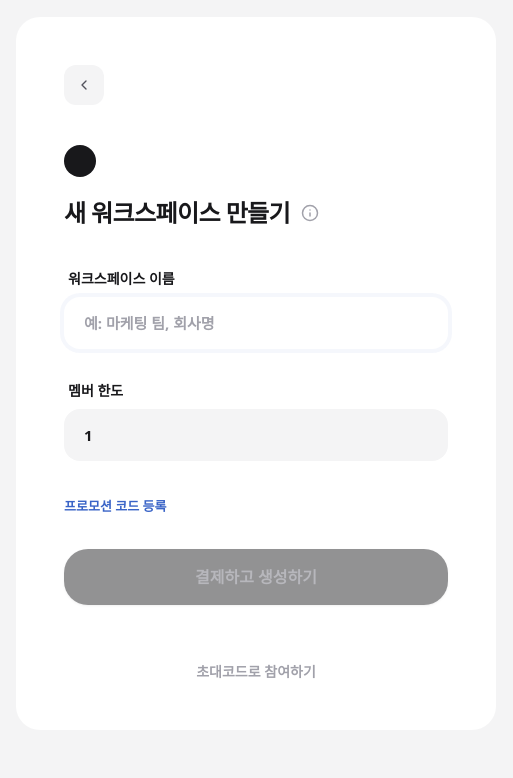
Test: NewWorkspacePage › renders validation errors from the form hook
Type "Growth Team" into the field with placeholder "예: 마케팅 팀, 회사명".
click(256, 322); type("Growth Team")  # box [64,296,448,348]
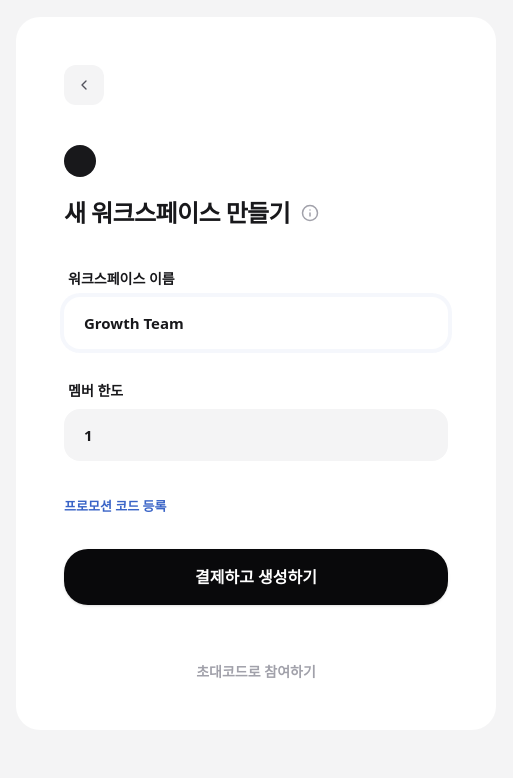
Replace the text in the number field with placeholder "예: 5" with "0" at (256, 434), box [64,408,448,460]
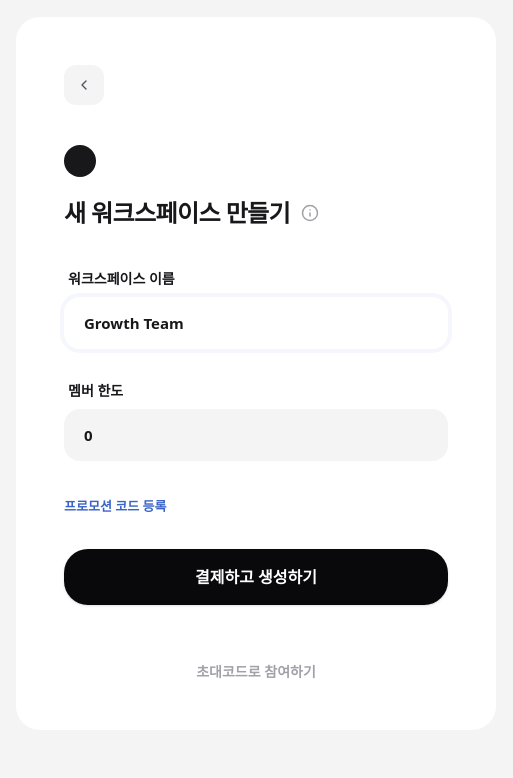
Submit the form, box [64,268,448,604]
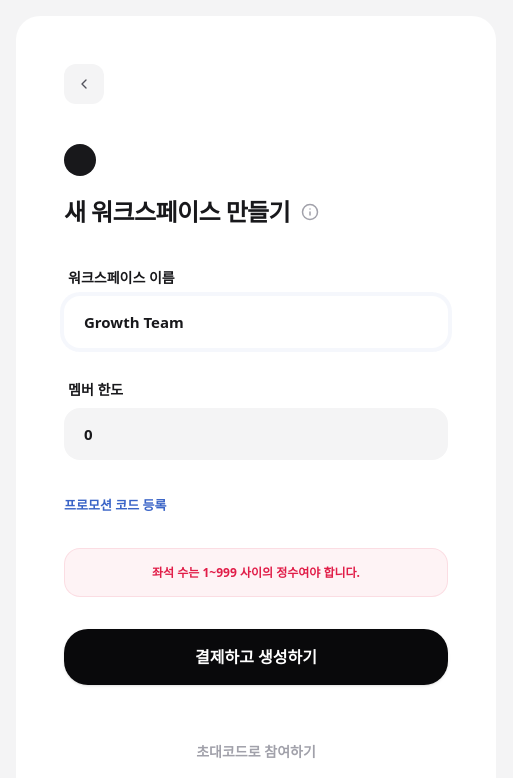
expect the text "좌석 수는 1~999 사이의 정수여야 합니다." is shown: met, box [152,564,360,581]
